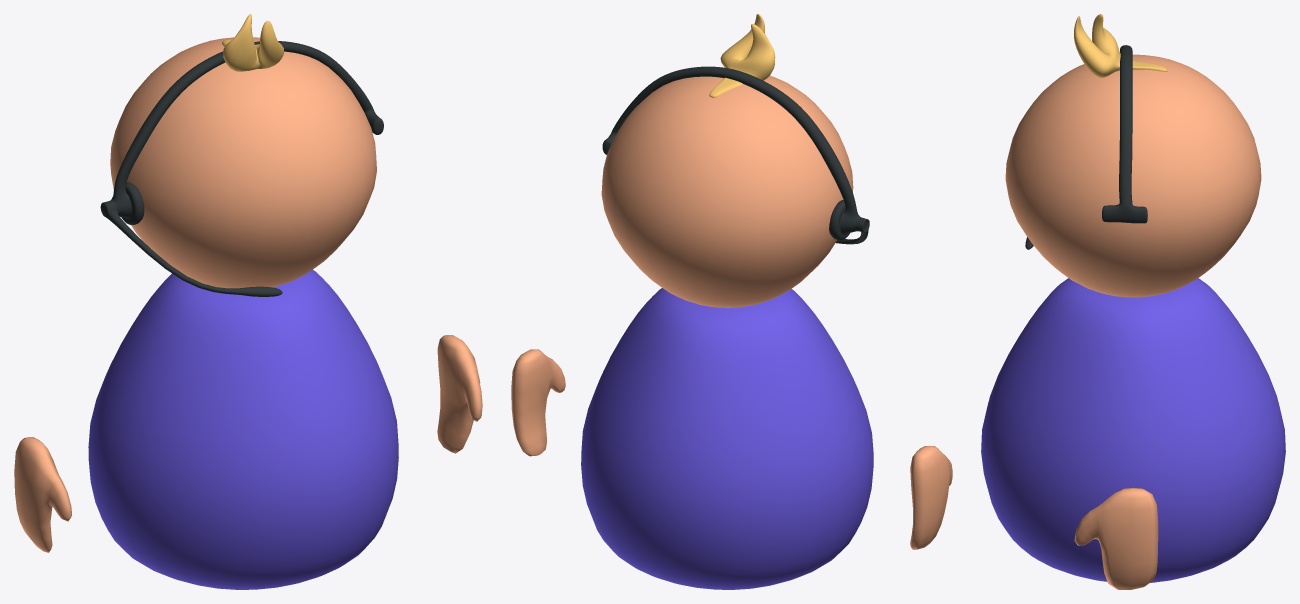
The model's file is Character_Purple.fbx.
3 renders of one model, left to right at view 1: azimuth 30°, elevation 25°; view 2: azimuth 150°, elevation 25°; view 3: azimuth 270°, elevation 25°, orthographic. The views are drawn at different scales.
Parts seen in each view (by area): view 1: Body.004, Head.004, Hands.004, Headphones, Hair2; view 2: Body.004, Head.004, Hands.004, Headphones, Hair2; view 3: Body.004, Head.004, Hands.004, Headphones, Hair2.
Boxes of the visible parts, bbox=[...] form: Body.004: bbox=[88, 269, 398, 589]; Head.004: bbox=[110, 37, 376, 288]; Hands.004: bbox=[14, 335, 482, 552]; Headphones: bbox=[100, 41, 383, 296]; Hair2: bbox=[222, 14, 284, 71]; Body.004: bbox=[581, 288, 873, 589]; Head.004: bbox=[601, 75, 853, 307]; Hands.004: bbox=[511, 349, 952, 549]; Headphones: bbox=[602, 66, 869, 244]; Hair2: bbox=[709, 14, 775, 97]; Body.004: bbox=[981, 278, 1285, 582]; Head.004: bbox=[1005, 54, 1261, 297]; Hands.004: bbox=[1074, 487, 1158, 589]; Headphones: bbox=[1025, 45, 1147, 249]; Hair2: bbox=[1074, 14, 1167, 77].
Size of the model in its own units: 291 by 355 by 180.
